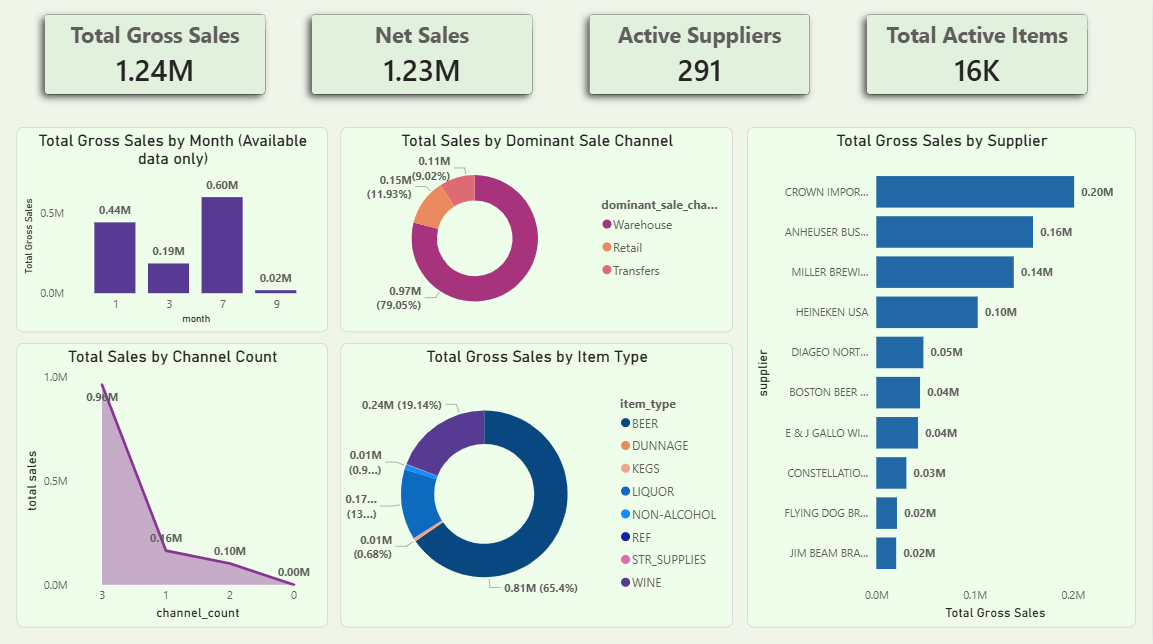

What the dashboard file says about the page in this screenshot:
{"tool":"powerbi","page":{"name":"Sales Analysis","canvas":[1280,720],"ordinal":0},"visuals":[{"type":"clusteredColumnChart","title":"Total Gross Sales by Month (Available data only)","fields":{"Category":["final_retail_and_warehouse_sales.month"],"Y":["final_retail_and_warehouse_sales.TotalGrossSales"]},"box":[18,144,346,228],"z":1000},{"type":"cardVisual","fields":{"Data":["final_retail_and_warehouse_sales.NoOfItems"]},"box":[944.3,0,281.4,125.7],"z":4000},{"type":"donutChart","title":"Total Gross Sales by  Item Type","fields":{"Y":["final_retail_and_warehouse_sales.TotalGrossSales"],"Series":["final_retail_and_warehouse_sales.item_type"]},"box":[378,384,436,316],"z":5000},{"type":"clusteredBarChart","title":"Total Gross Sales by  Supplier","fields":{"Y":["final_retail_and_warehouse_sales.TotalGrossSales"],"Category":["final_retail_and_warehouse_sales.supplier"]},"box":[830,144,432,556],"z":6000},{"type":"areaChart","title":"Total Sales by  Channel Count","fields":{"Category":["final_retail_and_warehouse_sales.channel_count"],"Y":["Sum(final_retail_and_warehouse_sales.total_sales)"]},"box":[18,384,346,316],"z":7000},{"type":"donutChart","title":"Total Sales by  Dominant Sale Channel","fields":{"Y":["final_retail_and_warehouse_sales.TotalSales"],"Category":["final_retail_and_warehouse_sales.dominant_sale_channel"]},"box":[378,144,436,228],"z":8000},{"type":"cardVisual","fields":{"Data":["final_retail_and_warehouse_sales.NoOfSuppliers"]},"box":[637.1,0,281.4,125.7],"z":9000},{"type":"cardVisual","fields":{"Data":["final_retail_and_warehouse_sales.TotalGrossSales"]},"box":[31.4,0,281.4,125.7],"z":10000},{"type":"cardVisual","fields":{"Data":["final_retail_and_warehouse_sales.TotalSales"]},"box":[328.6,0,281.4,125.7],"z":11000}]}

Visuals, with their boxes in screenshot pixels (x1, y1, x2, y2), scaled from the page's 1280x720 canvas onto the 1153x644 screenshot:
"Total Gross Sales by Month (Available data only)" clusteredColumnChart: 16,129,328,333
cardVisual - final_retail_and_warehouse_sales.NoOfItems: 851,0,1104,112
"Total Gross Sales by  Item Type" donutChart: 340,343,733,626
"Total Gross Sales by  Supplier" clusteredBarChart: 748,129,1137,626
"Total Sales by  Channel Count" areaChart: 16,343,328,626
"Total Sales by  Dominant Sale Channel" donutChart: 340,129,733,333
cardVisual - final_retail_and_warehouse_sales.NoOfSuppliers: 574,0,827,112
cardVisual - final_retail_and_warehouse_sales.TotalGrossSales: 28,0,282,112
cardVisual - final_retail_and_warehouse_sales.TotalSales: 296,0,549,112
